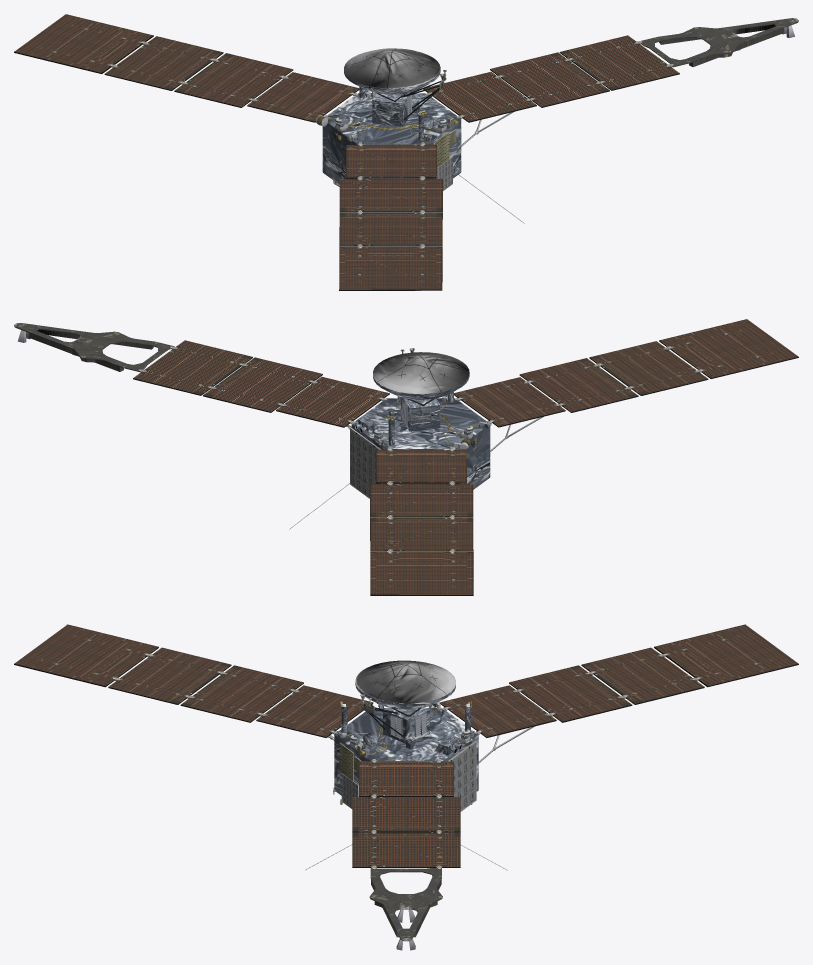
File: juno.glb
The picture shows the model from 3 angles, top to bottom: view 1: azimuth 30°, elevation 25°; view 2: azimuth 150°, elevation 25°; view 3: azimuth 270°, elevation 25°; orthographic projection. The views are drawn at different scales.
Parts seen in each view (by area): view 1: shiny_panels_Geometry-Body.021, dish_bottom_Geometry-Mesh, dish_top_Geometry-Mesh.002, solar_panels_Geometry-Body.006, tex_01_Geometry-Body.003, black_krinkle_Geometry-Body.007; view 2: shiny_panels_Geometry-Body.021, dish_bottom_Geometry-Mesh, dish_top_Geometry-Mesh.002, tex_01_Geometry-Body.003, solar_panels_Geometry-Body.006, black_krinkle_Geometry-Body.007; view 3: shiny_panels_Geometry-Body.021, dish_bottom_Geometry-Mesh, tex_01_Geometry-Body.003, dish_top_Geometry-Mesh.002, solar_panels_Geometry-Body.006, black_krinkle_Geometry-Body.007.
Boxes of the visible parts, x1=… form: shiny_panels_Geometry-Body.021: x1=14, y1=14, x2=679, y2=289; dish_bottom_Geometry-Mesh: x1=322, y1=69, x2=461, y2=186; dish_top_Geometry-Mesh.002: x1=344, y1=48, x2=440, y2=88; solar_panels_Geometry-Body.006: x1=415, y1=18, x2=798, y2=290; tex_01_Geometry-Body.003: x1=110, y1=25, x2=794, y2=247; black_krinkle_Geometry-Body.007: x1=14, y1=35, x2=679, y2=290; shiny_panels_Geometry-Body.021: x1=133, y1=319, x2=798, y2=594; dish_bottom_Geometry-Mesh: x1=351, y1=374, x2=490, y2=489; dish_top_Geometry-Mesh.002: x1=373, y1=352, x2=469, y2=393; tex_01_Geometry-Body.003: x1=17, y1=330, x2=702, y2=552; solar_panels_Geometry-Body.006: x1=14, y1=323, x2=174, y2=371; black_krinkle_Geometry-Body.007: x1=133, y1=340, x2=798, y2=595; shiny_panels_Geometry-Body.021: x1=14, y1=624, x2=798, y2=866; dish_bottom_Geometry-Mesh: x1=334, y1=682, x2=478, y2=800; tex_01_Geometry-Body.003: x1=112, y1=653, x2=699, y2=950; dish_top_Geometry-Mesh.002: x1=355, y1=660, x2=455, y2=703; solar_panels_Geometry-Body.006: x1=369, y1=868, x2=442, y2=941; black_krinkle_Geometry-Body.007: x1=14, y1=647, x2=798, y2=867.
Size of the model in its own units: 17.65 by 4.26 by 18.54.
9 materials, 9 textured.
